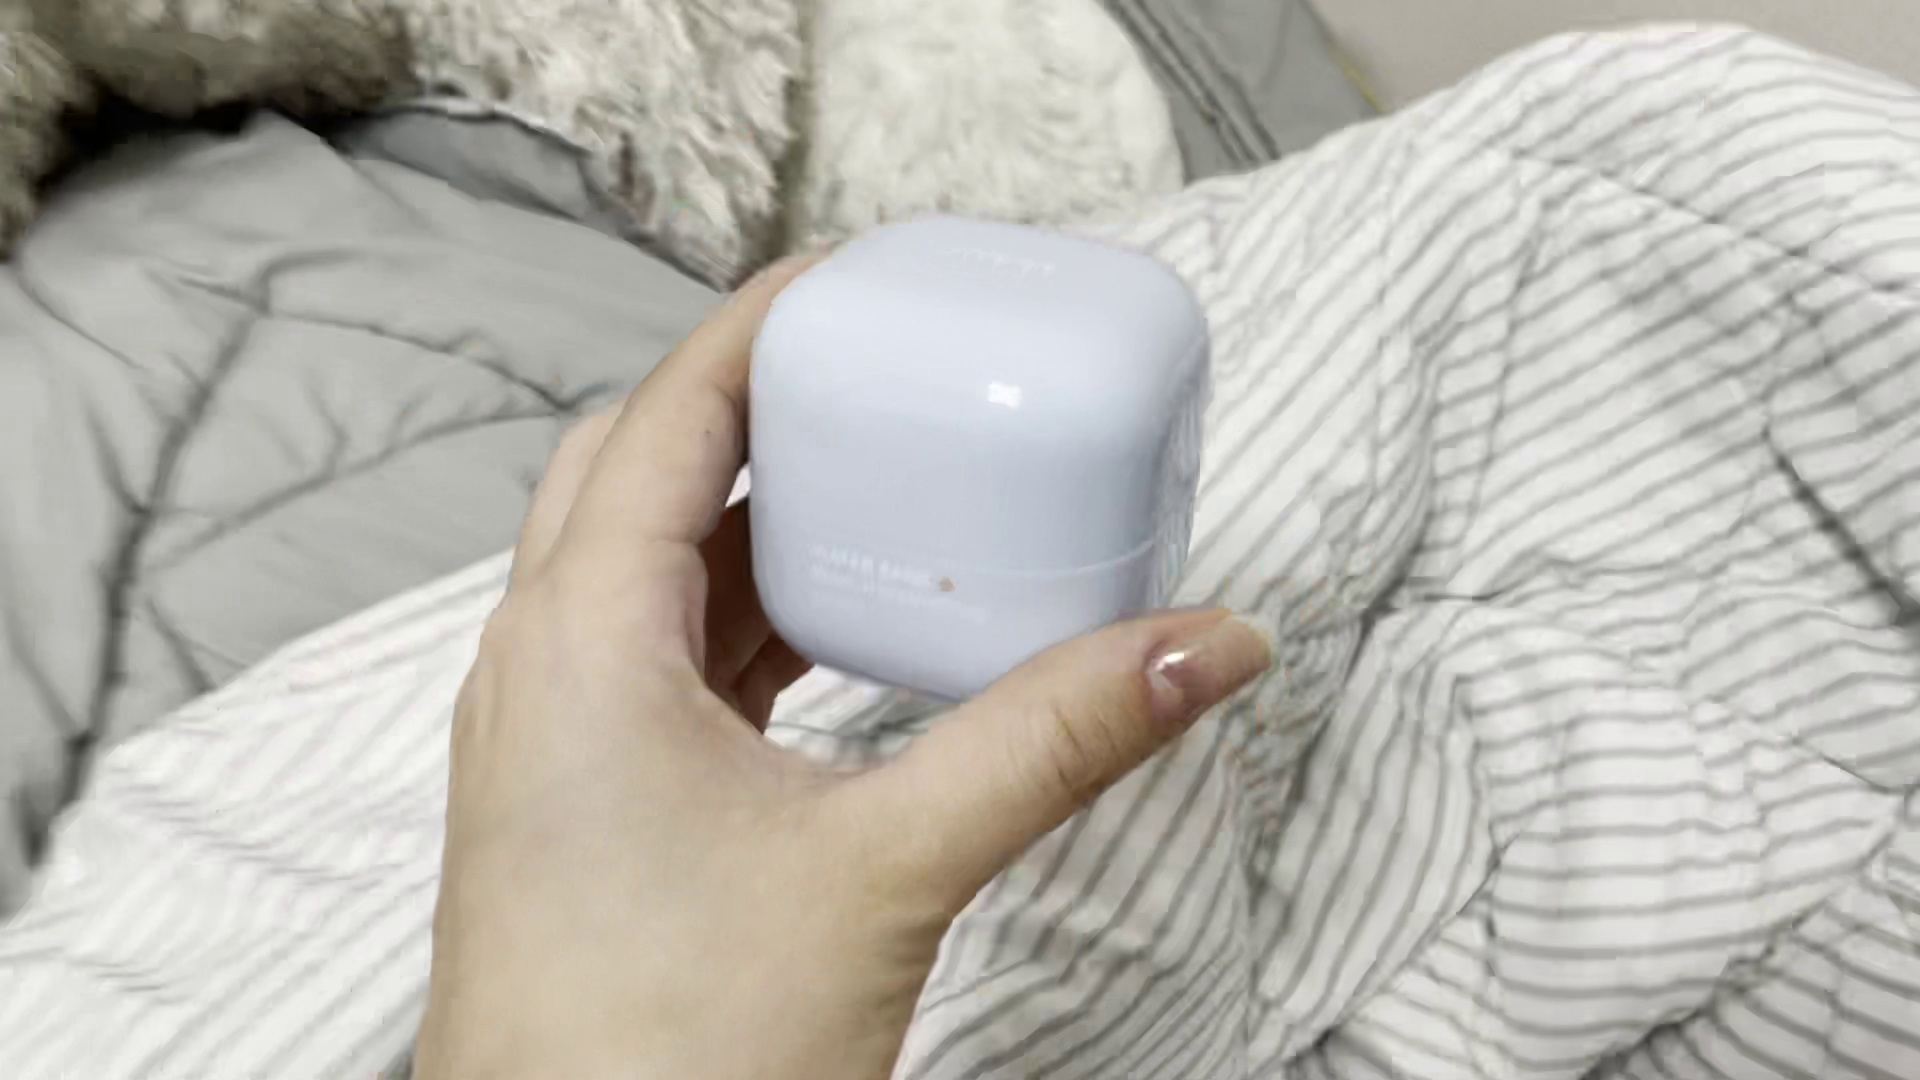cream: (750, 211, 1215, 702)
